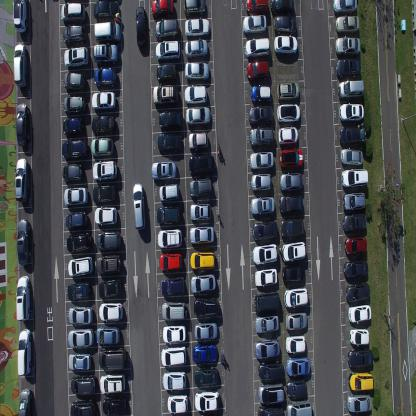car: (17, 327, 32, 377), (16, 273, 30, 322), (132, 181, 146, 230), (13, 43, 28, 88), (15, 102, 29, 148), (93, 42, 121, 65), (98, 348, 127, 370), (340, 167, 369, 189), (17, 217, 30, 266), (15, 157, 29, 202), (152, 83, 178, 107), (244, 36, 270, 60), (254, 290, 280, 314), (254, 337, 281, 360), (93, 22, 122, 43), (60, 1, 86, 24), (66, 231, 92, 254), (96, 252, 122, 275), (156, 131, 182, 154), (252, 242, 278, 265), (160, 345, 187, 367), (188, 153, 215, 175), (257, 360, 284, 382), (339, 124, 366, 146), (337, 78, 364, 100), (150, 160, 178, 181), (64, 45, 89, 68), (68, 254, 93, 277), (157, 227, 182, 250), (345, 281, 370, 304), (93, 0, 119, 22), (62, 138, 88, 160), (100, 372, 126, 394), (70, 373, 96, 395), (194, 390, 220, 412), (258, 382, 284, 404), (348, 370, 374, 392), (347, 348, 373, 370), (190, 272, 216, 294), (67, 327, 94, 348), (243, 12, 267, 35), (282, 240, 306, 263), (93, 66, 118, 88), (91, 90, 116, 112), (92, 159, 117, 181), (96, 229, 121, 251), (98, 276, 123, 298), (193, 342, 218, 364), (156, 204, 181, 226), (158, 110, 183, 132), (183, 83, 208, 105), (185, 60, 210, 82), (154, 16, 179, 38), (248, 103, 273, 125), (249, 149, 274, 171), (190, 250, 216, 271), (188, 224, 214, 245), (185, 106, 211, 127), (278, 193, 304, 214), (252, 220, 278, 241), (346, 392, 372, 413), (62, 70, 86, 92), (91, 114, 115, 136), (96, 324, 120, 346), (160, 275, 184, 297), (188, 176, 212, 198), (276, 102, 300, 124), (251, 194, 275, 216), (284, 286, 308, 308), (342, 190, 366, 212), (98, 301, 123, 322), (193, 365, 218, 386), (161, 301, 186, 322), (249, 127, 274, 148), (254, 314, 280, 334), (343, 260, 369, 280), (338, 102, 364, 122), (335, 56, 361, 76), (12, 0, 27, 34), (185, 38, 208, 60), (285, 310, 308, 332), (63, 24, 87, 45), (67, 280, 91, 301), (158, 251, 182, 272), (279, 147, 303, 168), (343, 212, 367, 233), (63, 186, 88, 206), (68, 304, 93, 324), (155, 39, 180, 59), (185, 17, 210, 37), (280, 218, 305, 238), (193, 298, 219, 317), (62, 115, 84, 137), (62, 161, 84, 183), (158, 181, 180, 203), (156, 61, 178, 83), (64, 209, 87, 230), (166, 392, 189, 413), (246, 59, 269, 80), (277, 81, 300, 102), (162, 370, 186, 390), (279, 172, 303, 192), (254, 267, 278, 287), (286, 356, 310, 376), (340, 147, 364, 167), (102, 396, 127, 415), (347, 304, 372, 323), (334, 36, 360, 54), (190, 201, 212, 222), (188, 130, 209, 152), (344, 235, 366, 256), (63, 94, 86, 114), (91, 138, 114, 158), (94, 205, 117, 225), (250, 172, 273, 192), (282, 264, 305, 284), (284, 334, 307, 354), (194, 321, 218, 340), (162, 324, 186, 343), (274, 35, 298, 54), (336, 14, 360, 33), (70, 397, 95, 415), (286, 378, 307, 399), (136, 4, 146, 48), (92, 184, 115, 203), (273, 16, 296, 35), (286, 400, 313, 416), (18, 387, 33, 415), (278, 124, 298, 145), (68, 352, 91, 370), (250, 84, 271, 103), (332, 0, 358, 15), (270, 0, 294, 16), (349, 328, 370, 346), (151, 0, 174, 16), (184, 0, 207, 16), (245, 0, 269, 15), (258, 404, 284, 415)
